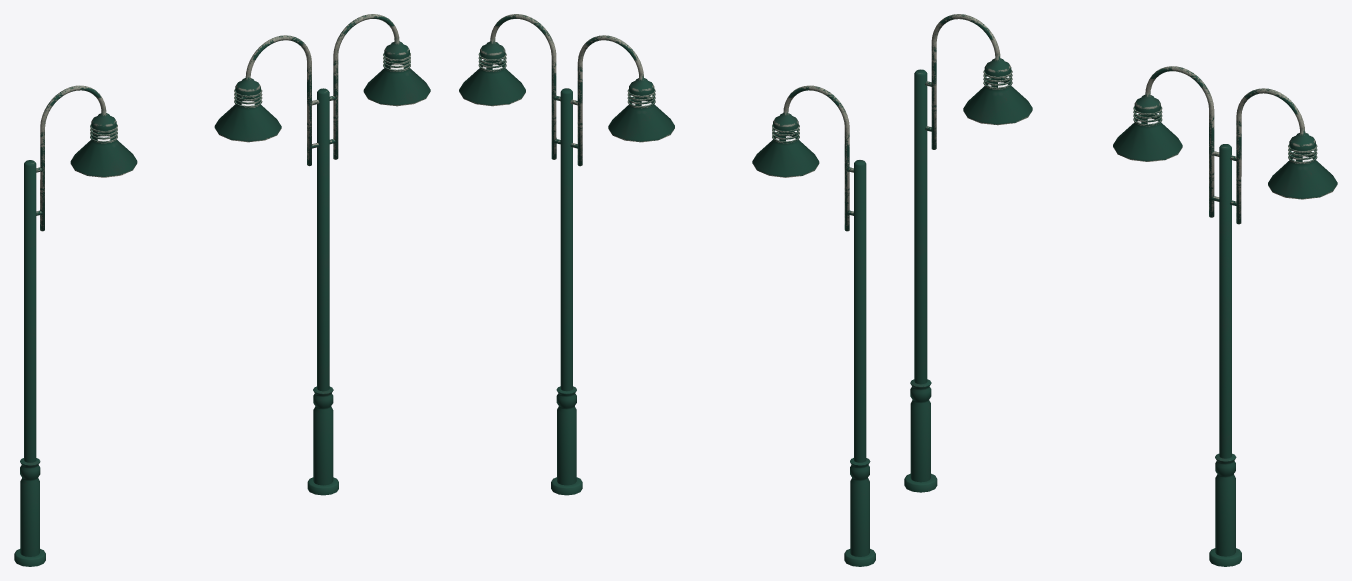
Rendered from habitat-lamp.glb.
The picture shows the model from 3 angles, left to right: view 1: azimuth 30°, elevation 25°; view 2: azimuth 150°, elevation 25°; view 3: azimuth 330°, elevation 25°; orthographic projection. The views are drawn at different scales.
Visible parts, largest first — view 1: Metal (×2), Metal004, Metal005, Metal007; view 2: Metal (×2), Metal004, Metal007, Metal005; view 3: Metal (×2), Metal004, Metal005, Metal007.
Boxes of the visible parts, x1,y1,x2,y2 form: Metal (×2): (14, 85, 137, 566); Metal004: (307, 88, 338, 495); Metal005: (333, 14, 430, 159); Metal007: (214, 35, 311, 166); Metal (×2): (752, 85, 875, 566); Metal004: (551, 88, 582, 495); Metal007: (577, 35, 674, 166); Metal005: (459, 14, 556, 159); Metal (×2): (904, 14, 1032, 492); Metal004: (1209, 144, 1241, 566); Metal005: (1236, 88, 1337, 224); Metal007: (1113, 66, 1214, 217).
Bounding box in the file's own units: 3.39 × 3.66 × 0.4809.
3 materials, 3 textured.
